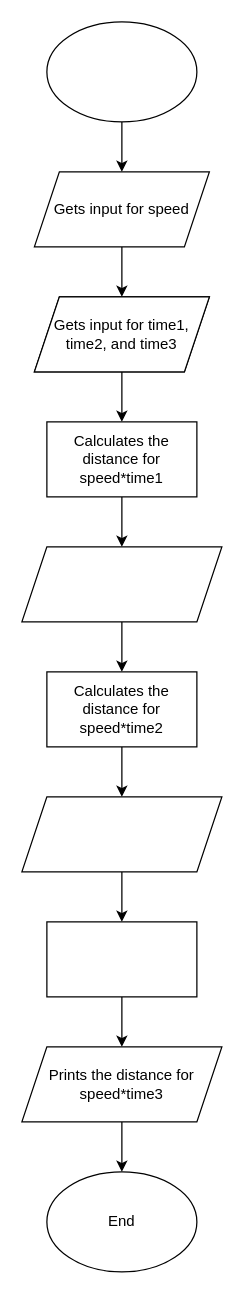
Image size: 244x1294. Some labels were removed from this diagram. The centre of each missing label's shape, as x and y in pixels:
Calculates the distance for speed*time3: point (121, 959)
Prints the distance for speed*time1: point (121, 584)
Prints the distance for speed*time2: point (121, 834)
Start: point (121, 71)
